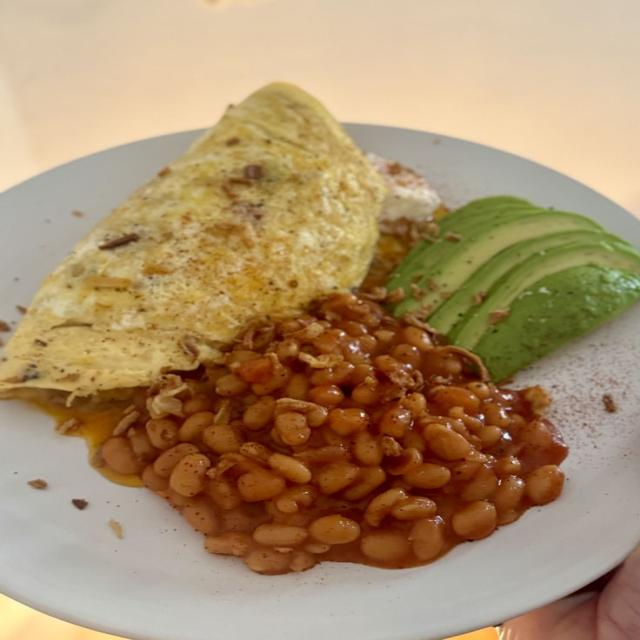avocado: (395, 200, 603, 317), (445, 229, 639, 349), (471, 266, 639, 380)
beans: (104, 294, 565, 573), (423, 423, 471, 460), (170, 453, 210, 496), (452, 501, 496, 539), (364, 488, 407, 526), (409, 517, 445, 561), (238, 469, 285, 502), (361, 530, 411, 561), (309, 515, 360, 545), (314, 461, 359, 495), (526, 465, 564, 505), (154, 443, 198, 477), (342, 467, 386, 501), (101, 437, 139, 474), (492, 475, 525, 516), (268, 453, 311, 484), (460, 466, 498, 501), (182, 500, 219, 535), (430, 386, 479, 412), (253, 524, 308, 547), (202, 424, 244, 454), (403, 463, 451, 489), (245, 548, 292, 574), (276, 412, 311, 446), (422, 347, 462, 376), (206, 479, 242, 511), (275, 486, 317, 513), (205, 532, 251, 556), (243, 396, 275, 430), (391, 497, 437, 520), (179, 411, 213, 442), (379, 407, 413, 438), (329, 408, 368, 435), (311, 362, 354, 386), (352, 431, 382, 465), (294, 445, 349, 463), (236, 357, 273, 383), (147, 419, 179, 449), (127, 429, 157, 460), (387, 448, 422, 474), (403, 327, 433, 352), (309, 385, 344, 406), (483, 401, 510, 428), (215, 374, 248, 396), (390, 344, 421, 367), (141, 465, 168, 491), (285, 373, 310, 400), (475, 425, 503, 448), (240, 442, 272, 462), (183, 394, 211, 416), (402, 393, 426, 418), (352, 383, 378, 405), (494, 456, 521, 477), (276, 339, 299, 363), (290, 550, 316, 571), (306, 405, 328, 427), (466, 382, 491, 400)
omelette: (0, 84, 385, 403)
